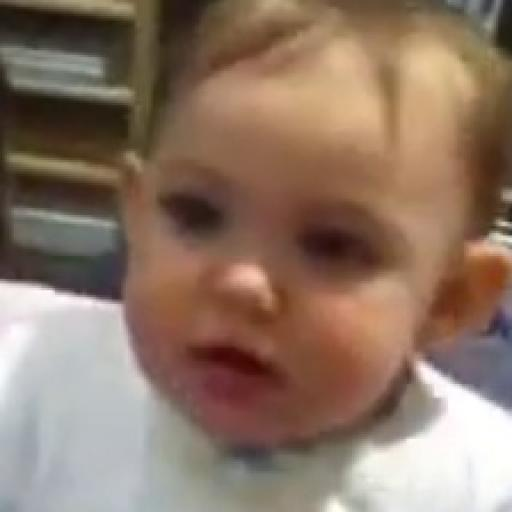Autism: (90, 62, 512, 464)
